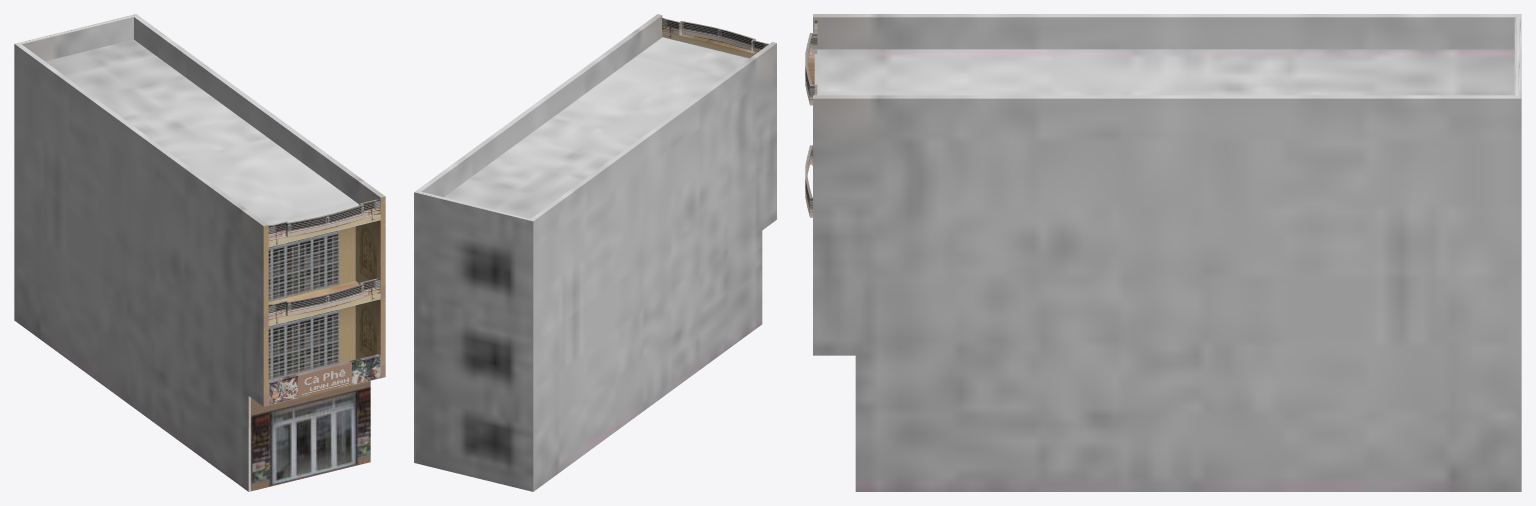
3 renders of one model, left to right at view 1: azimuth 30°, elevation 25°; view 2: azimuth 150°, elevation 25°; view 3: azimuth 270°, elevation 25°, orthographic. The views are drawn at different scales.
Visible parts, largest first — view 1: 5da91edeeca4680ebc5f9a5b.001; view 2: 5da91edeeca4680ebc5f9a5b.001; view 3: 5da91edeeca4680ebc5f9a5b.001.
Part boxes in pixels (x1,y1,x2,y2): 5da91edeeca4680ebc5f9a5b.001: (14,14,385,491); 5da91edeeca4680ebc5f9a5b.001: (414,14,776,491); 5da91edeeca4680ebc5f9a5b.001: (805,14,1521,491).
Bounding box in the file's own units: 5.65 × 12.25 × 20.22.
Materials: 1 (1 with a texture image).
